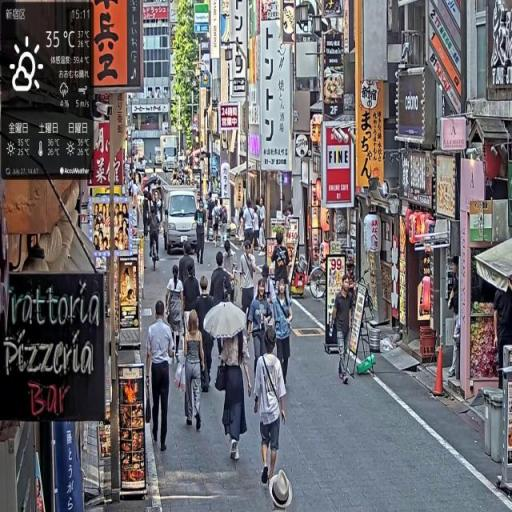person: (254, 332, 288, 492), (215, 333, 254, 464), (147, 299, 176, 453), (179, 312, 208, 433), (329, 273, 356, 386), (249, 279, 276, 388), (272, 275, 295, 393), (195, 274, 217, 392), (493, 272, 512, 389), (165, 264, 187, 364), (240, 240, 258, 315), (210, 252, 233, 308), (272, 233, 291, 293), (178, 241, 198, 292), (148, 206, 163, 267), (222, 241, 240, 291), (195, 201, 208, 267), (182, 265, 201, 307), (258, 266, 278, 303), (243, 199, 255, 249)
